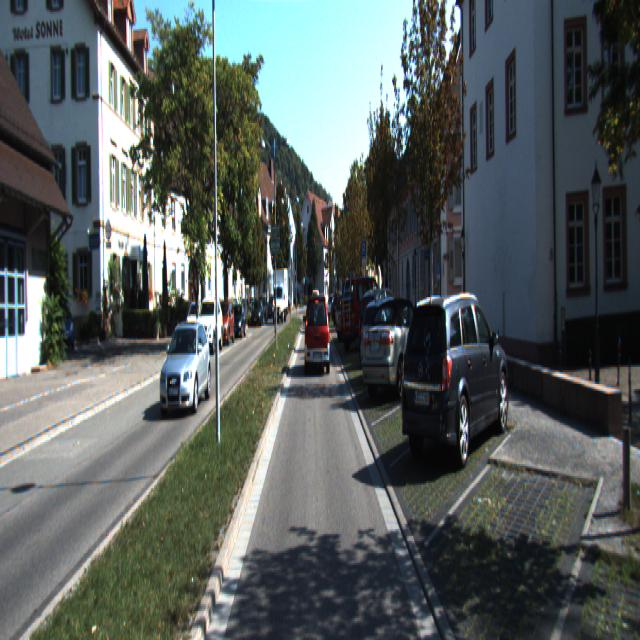Car: (399, 287, 512, 472), (361, 296, 435, 400), (359, 296, 419, 383), (159, 320, 212, 416), (358, 286, 409, 368), (338, 276, 386, 350), (305, 296, 331, 376), (335, 294, 372, 342), (195, 298, 224, 354), (214, 300, 236, 346), (54, 306, 75, 352), (272, 272, 288, 322), (185, 300, 203, 342), (250, 299, 264, 327)
